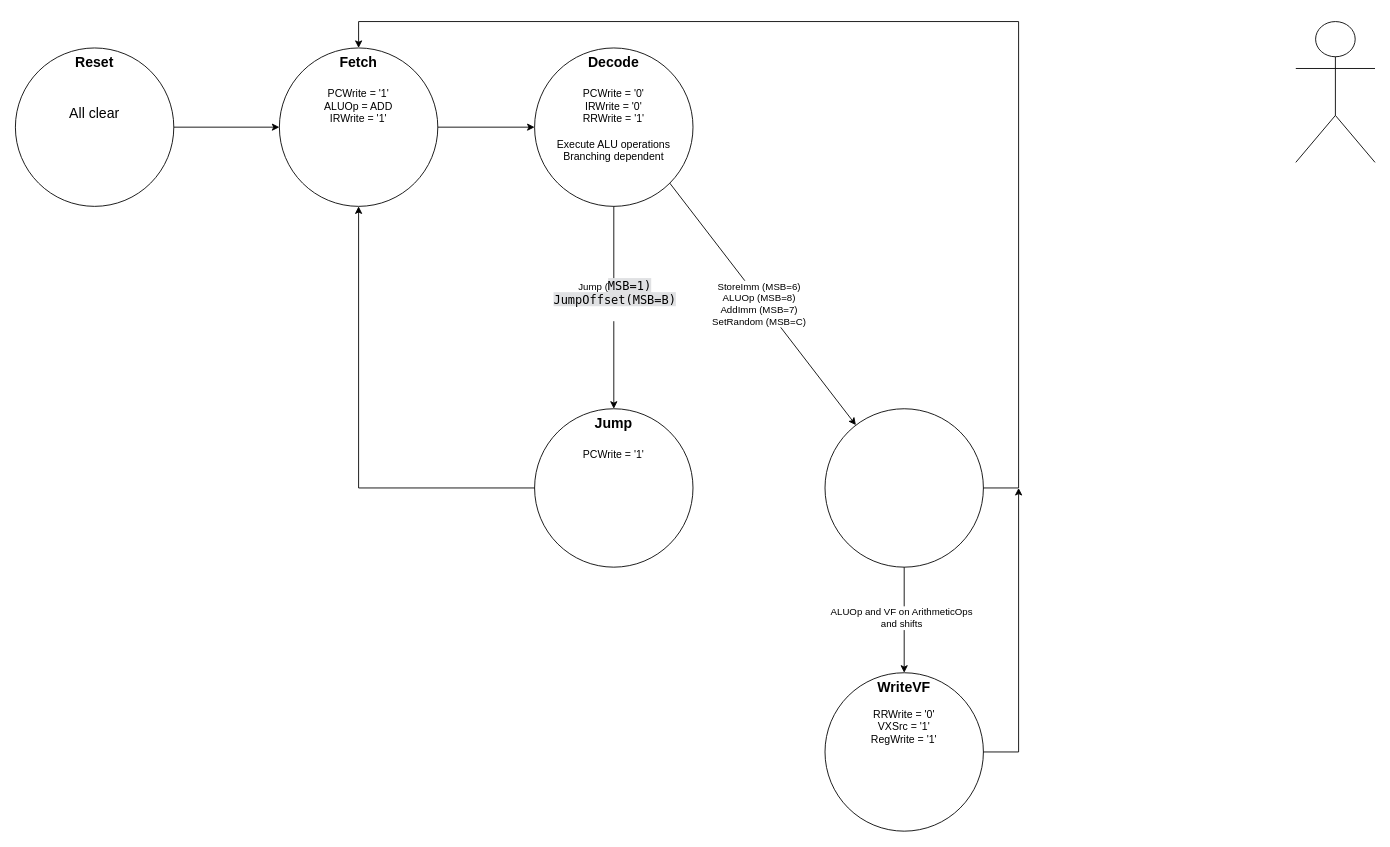
The diagram is 1390 pixels wide and 847 high, and some of its shapes have lost their labels. Each missing label, with the centre of its shape:
Snake: the point at 1335,91
WriteVX RegWrite = '1' PCWrite = '0': the point at 903,487
